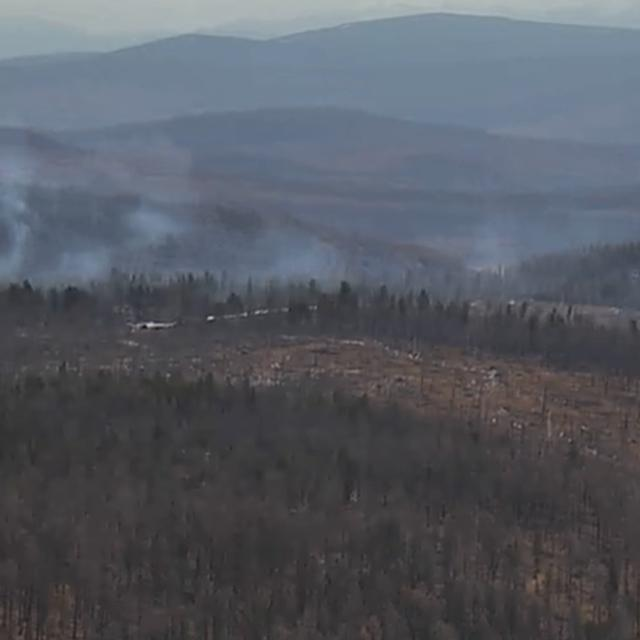Smoke: (0, 134, 350, 307)
